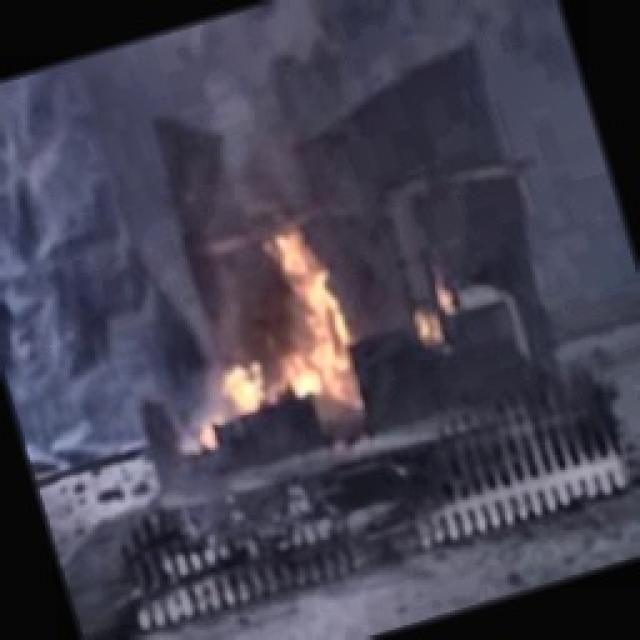fire: (168, 208, 384, 442)
